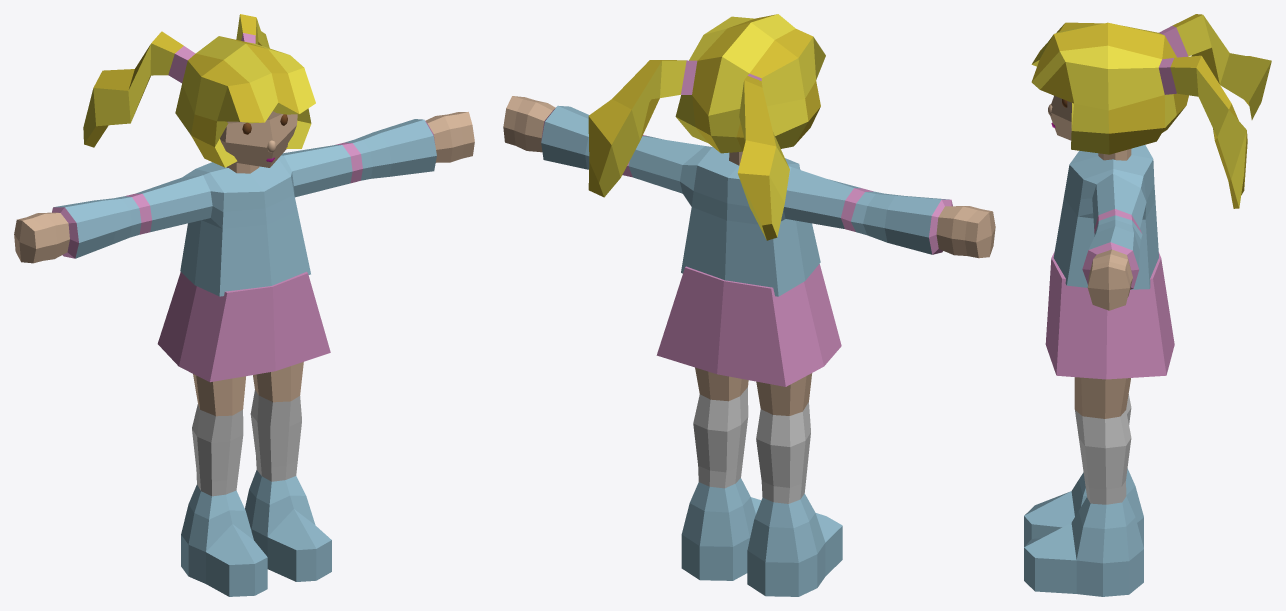
File: ANIME F.fbx
The picture shows the model from 3 angles, left to right: view 1: azimuth 30°, elevation 25°; view 2: azimuth 150°, elevation 25°; view 3: azimuth 270°, elevation 25°; orthographic projection. The views are drawn at different scales.
Parts seen in each view (by area): view 1: Cube, Cube.001; view 2: Cube, Cube.001; view 3: Cube, Cube.001.
Part boxes in pixels (left/top/right/bottom): Cube: left=14, top=111, right=474, bottom=596; Cube.001: left=83, top=14, right=315, bottom=167; Cube: left=503, top=96, right=995, bottom=596; Cube.001: left=588, top=14, right=825, bottom=240; Cube: left=1024, top=95, right=1174, bottom=596; Cube.001: left=1031, top=14, right=1271, bottom=208.
Bounding box in the file's own units: 173 × 189 × 78.17.
